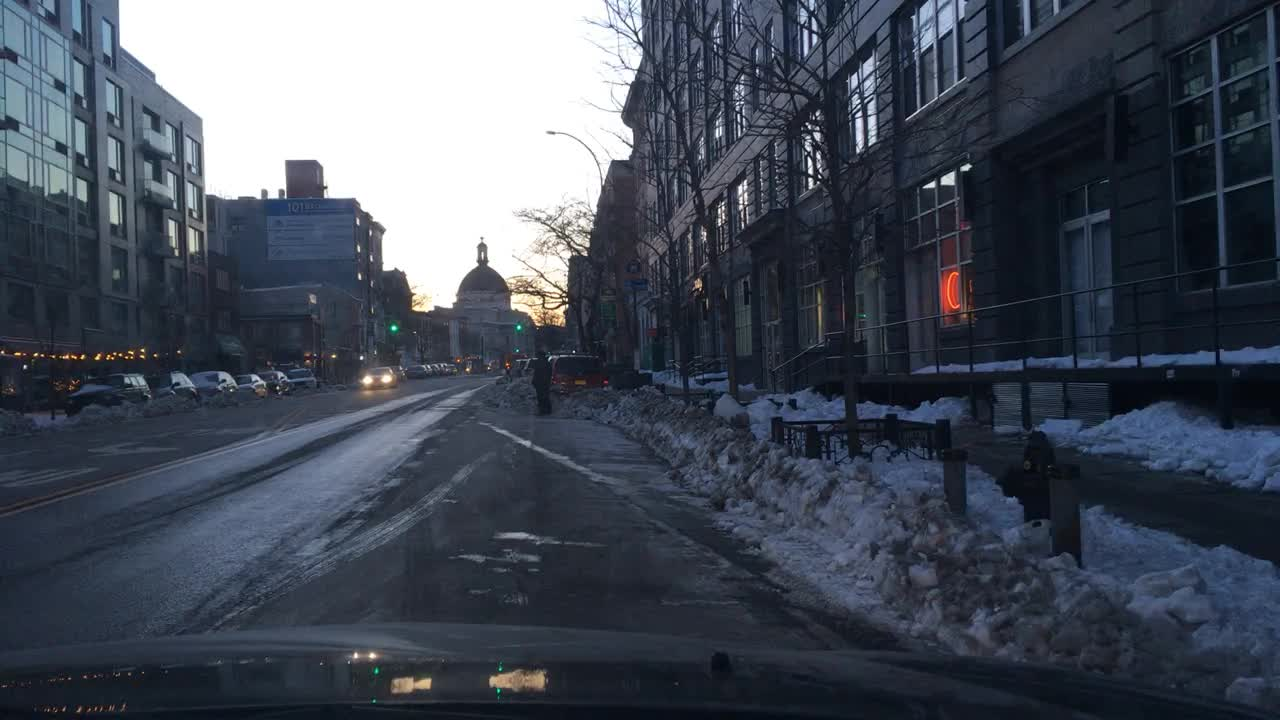car: (62, 370, 153, 421), (551, 353, 612, 404), (147, 369, 203, 411), (188, 368, 240, 404), (259, 369, 294, 398), (286, 366, 321, 393), (356, 366, 395, 390), (232, 373, 268, 399), (500, 356, 526, 385), (511, 359, 529, 388), (405, 361, 426, 381), (390, 364, 409, 383), (466, 355, 485, 373), (485, 360, 504, 374), (429, 361, 442, 374), (451, 360, 461, 376), (442, 361, 451, 374)
person: (531, 346, 555, 419)
traffic light: (388, 319, 399, 334), (514, 319, 524, 333)
traffic sign: (601, 303, 617, 333), (596, 285, 621, 301), (625, 260, 640, 277), (636, 279, 650, 291)
